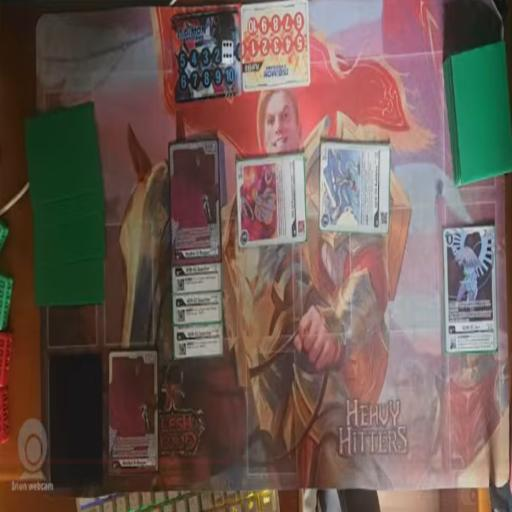card: (234, 150, 308, 246), (318, 136, 390, 233), (442, 228, 498, 352), (168, 143, 224, 265), (107, 350, 159, 472), (171, 289, 223, 332), (172, 318, 222, 362), (171, 261, 223, 293)
